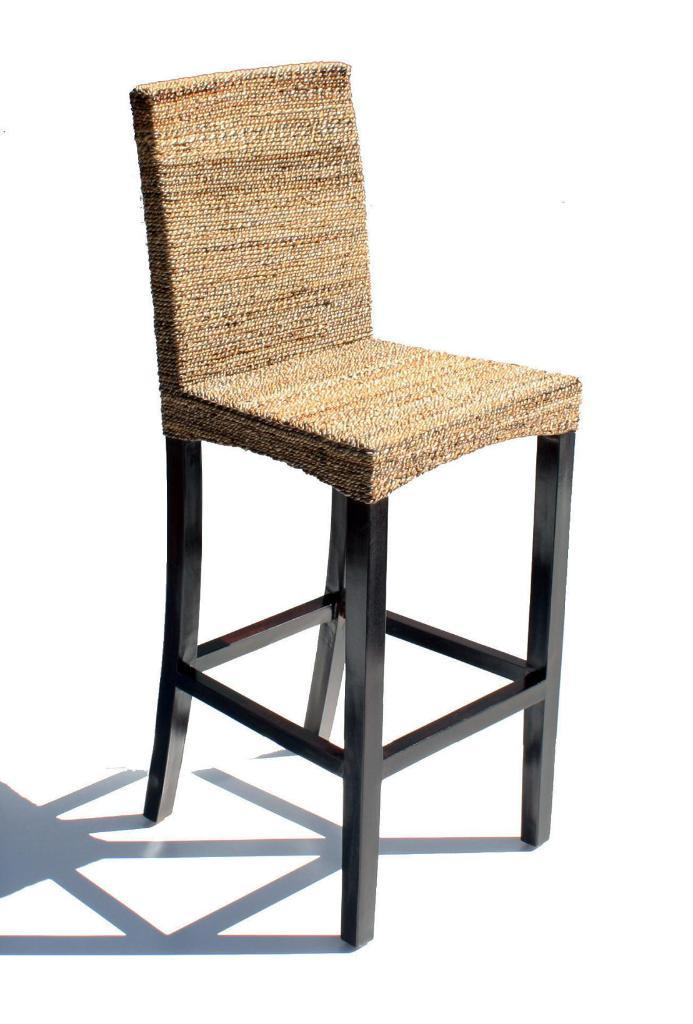Chair: (113, 45, 582, 953)
